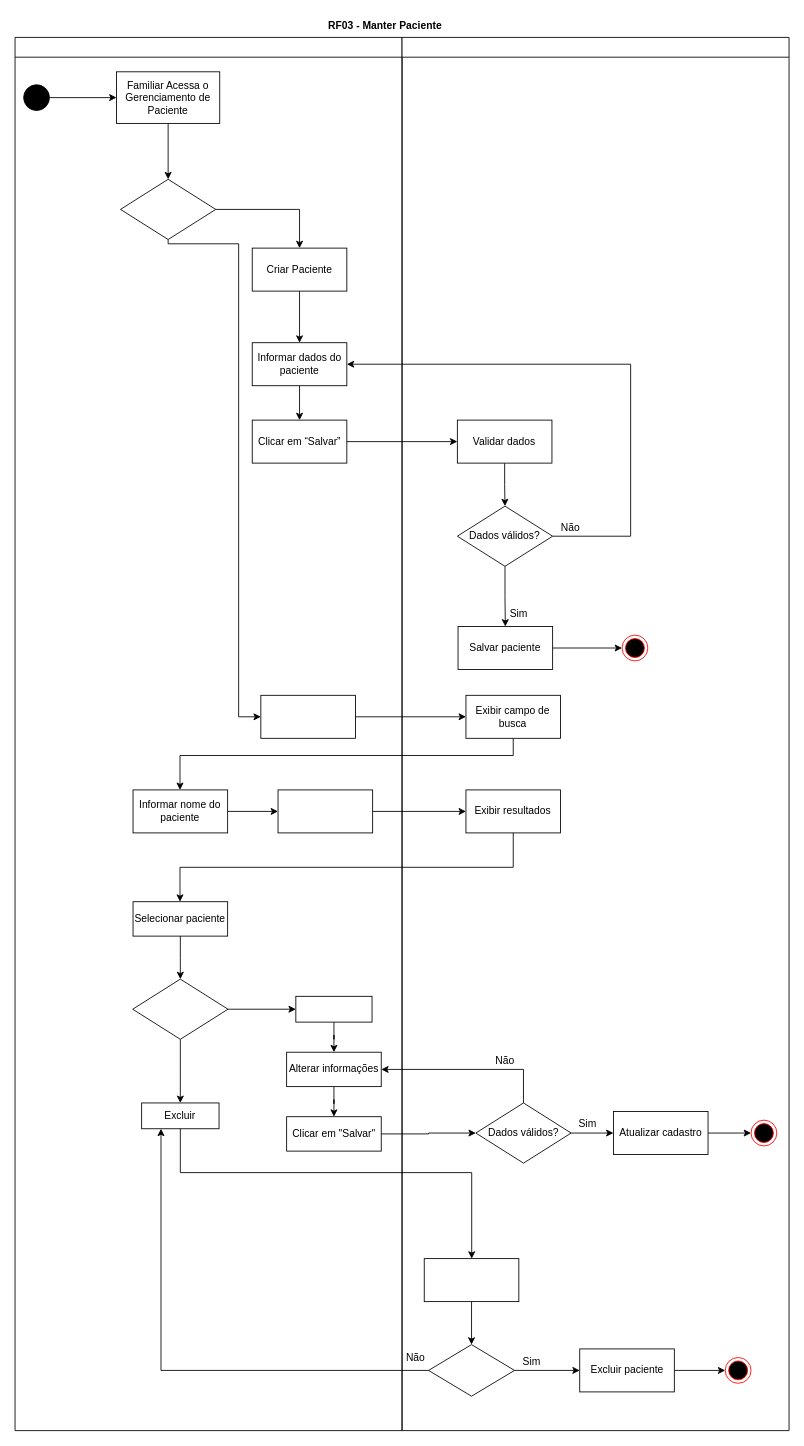
This 804x1446 diagram has some shape labels left out. Each missing label, with the box of its shape:
Buscar Paciente: (260, 694, 355, 738)
Clicar em "Buscar": (277, 789, 373, 833)
Confirmado?: (428, 1344, 515, 1396)
Editar: (295, 995, 372, 1022)
Operações Disponíveis: (132, 978, 228, 1039)
Seleciona operação: (120, 178, 216, 240)
Sistema: (401, 37, 789, 1431)
Solicitar confirmação: (423, 1258, 519, 1302)
Usuário: (14, 37, 402, 1431)
